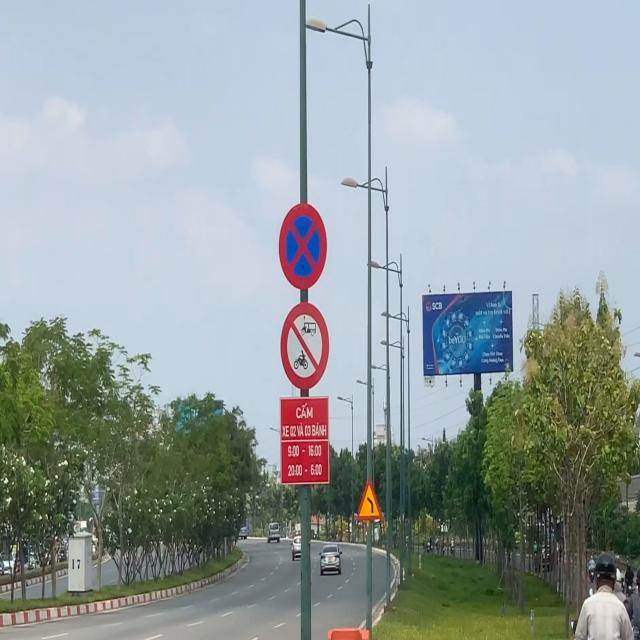Cam dung va do: (278, 202, 328, 291)
Nguy hiem: (357, 478, 382, 520)
